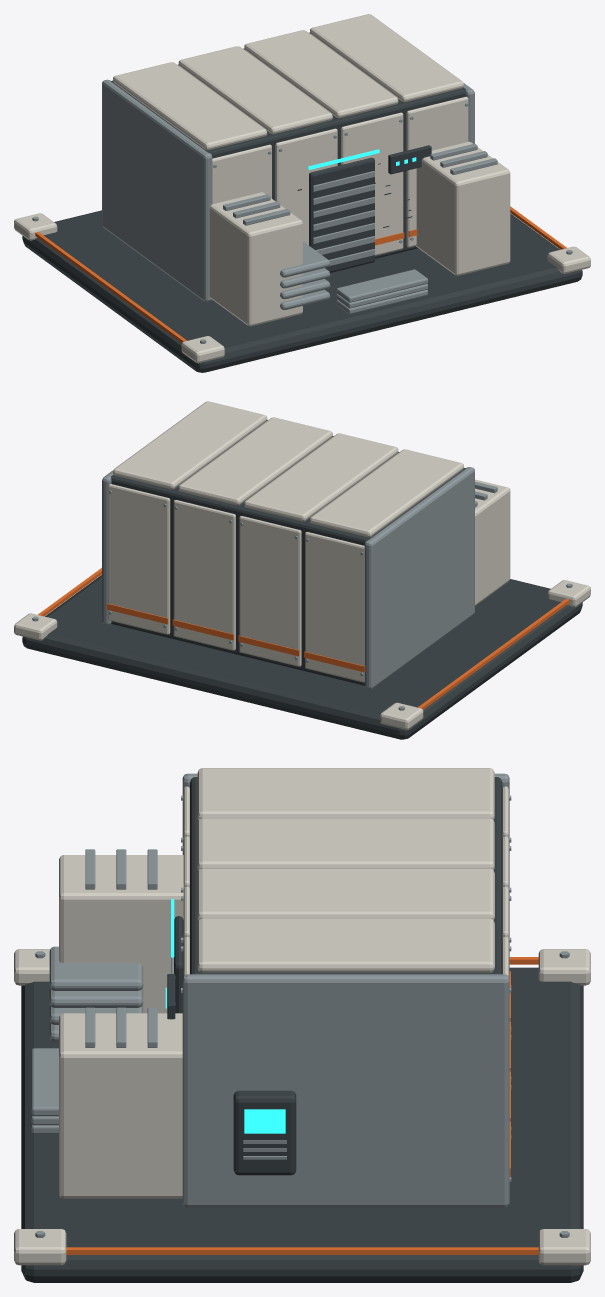
File: SM_CompositeWorks_Body.fbx
The picture shows the model from 3 angles, top to bottom: view 1: azimuth 30°, elevation 25°; view 2: azimuth 150°, elevation 25°; view 3: azimuth 270°, elevation 25°; orthographic projection. The views are drawn at different scales.
Parts seen in each view (by area): view 1: SM_CompositeWorks_Body; view 2: SM_CompositeWorks_Body; view 3: SM_CompositeWorks_Body.
Boxes of the visible parts, x1,y1,x2,y2 form: SM_CompositeWorks_Body: (14,14,590,372); SM_CompositeWorks_Body: (14,401,590,739); SM_CompositeWorks_Body: (14,768,590,1282).
Size of the model in its own units: 572 by 462 by 243.
